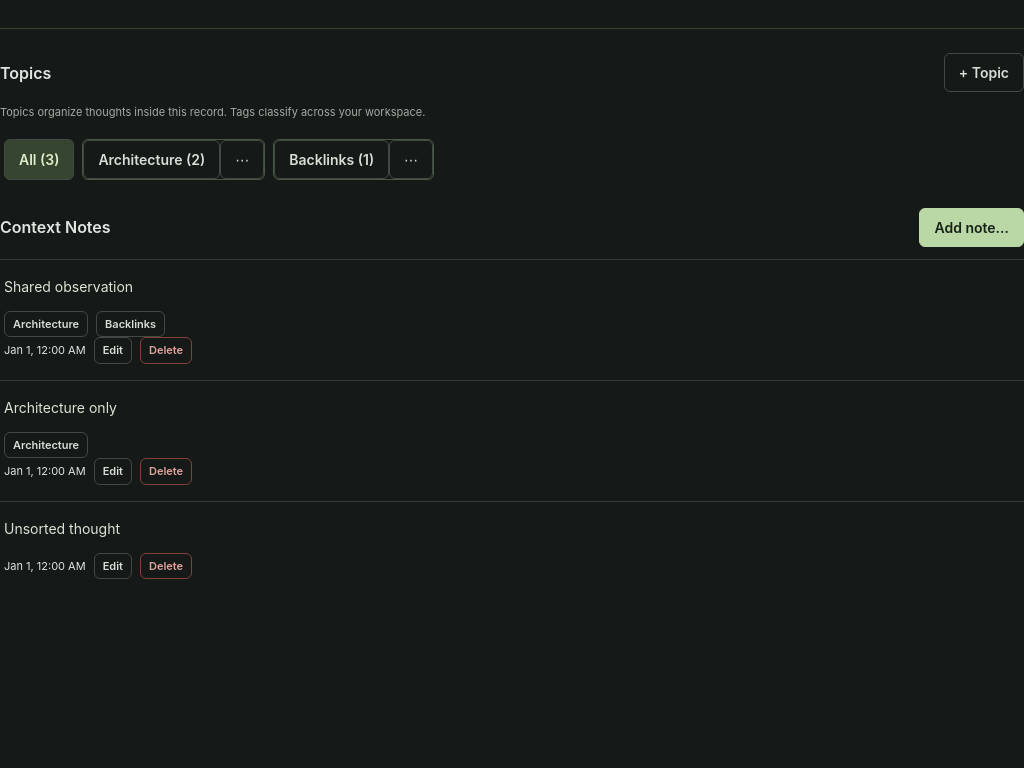
Test: editing changes body and memberships; confirmed deletion removes only the observation
Step 1. Click the button with aria-label "Edit observation Shared observation" → (113, 350), box [94,337,132,364]
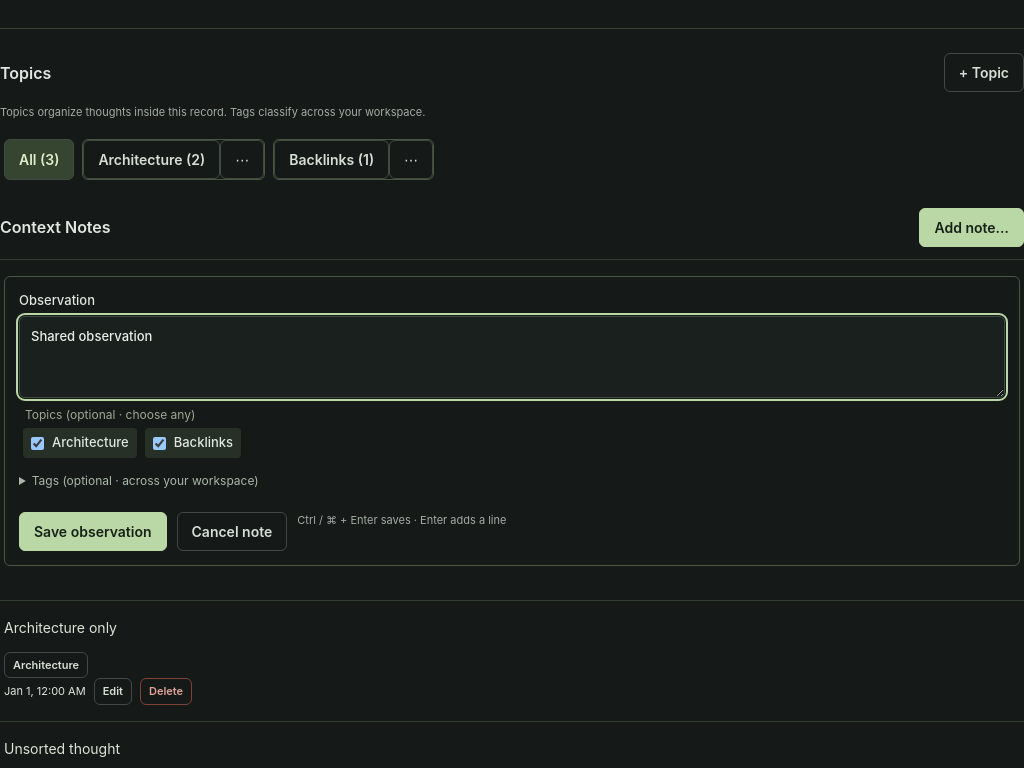
Step 2. Replace the text in the text box labelled "Observation" with "Revised thought" → (512, 357), box [19,316,1005,398]
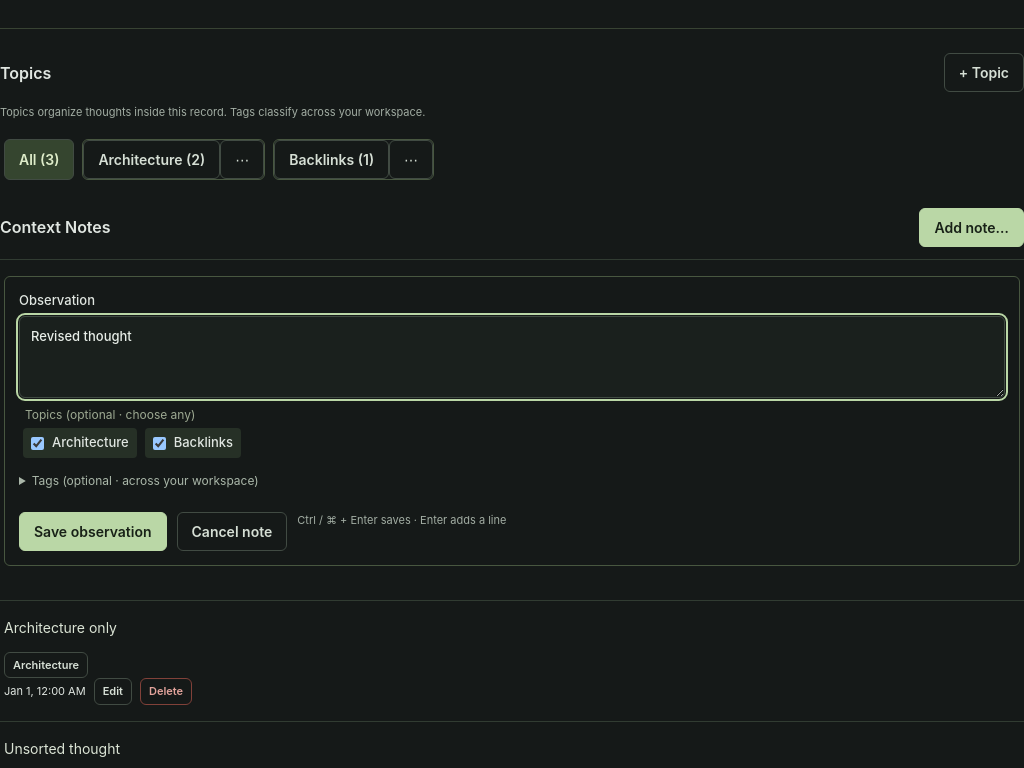
Step 3. Click the checkbox labelled "Architecture" → (38, 443), box [31,437,44,450]
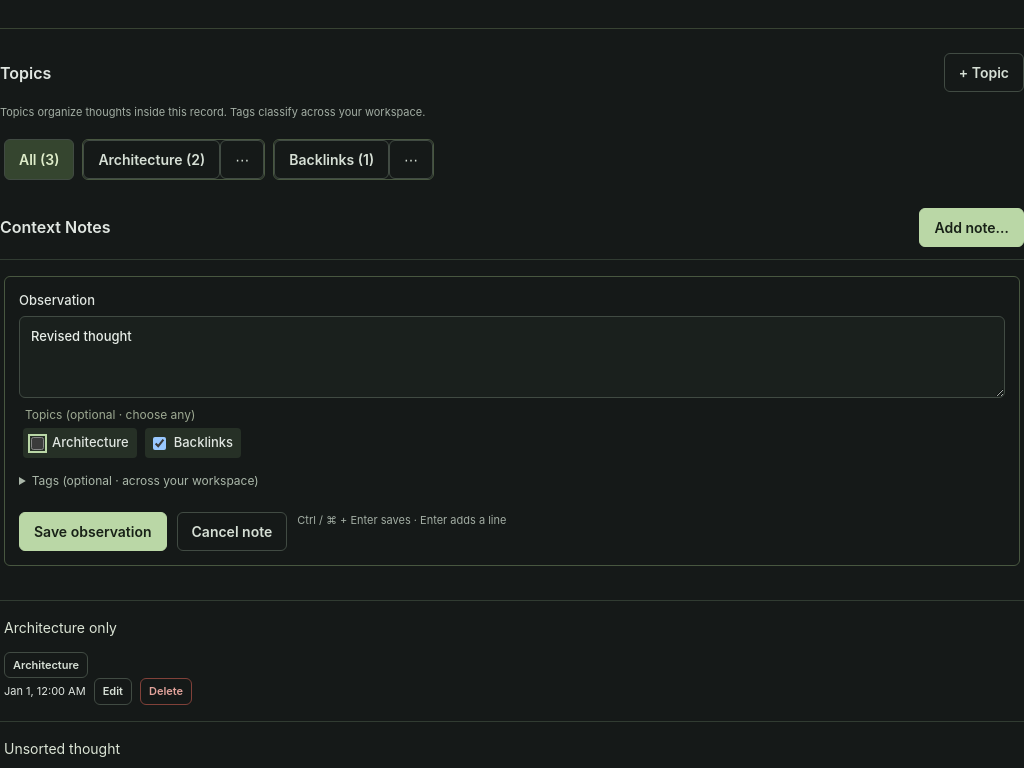
Step 4. Click the button "Save observation" → (93, 531), box [19,512,166,551]
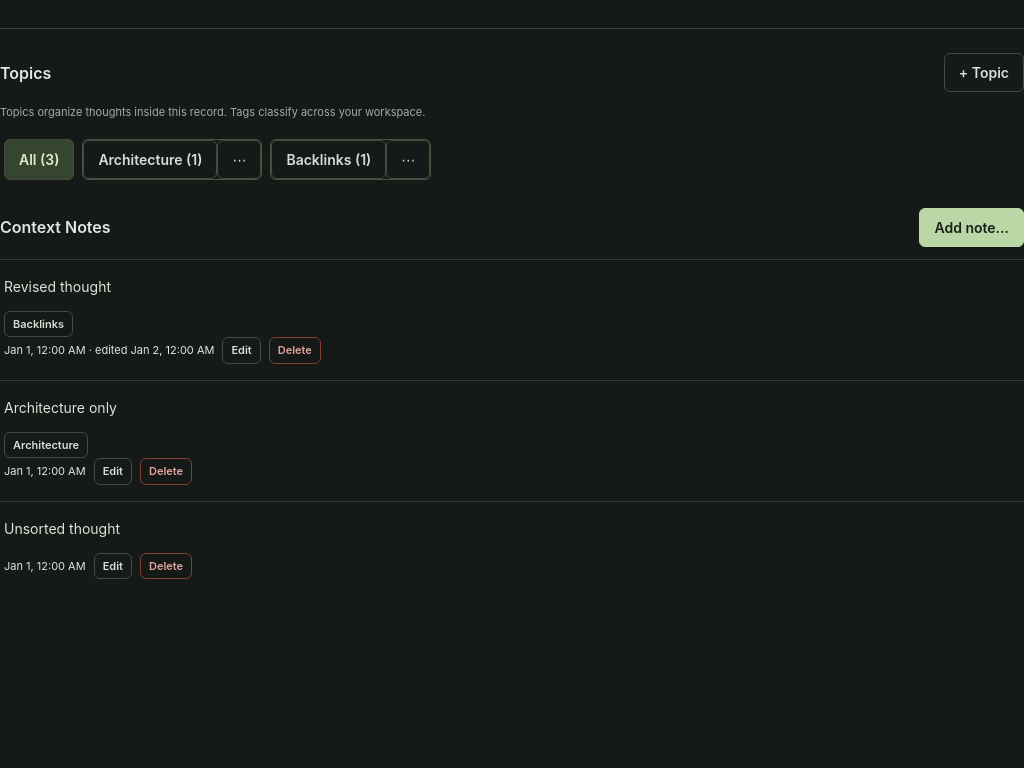
Step 5. Click the button with aria-label "Delete observation Revised thought" → (295, 350), box [269,337,321,364]
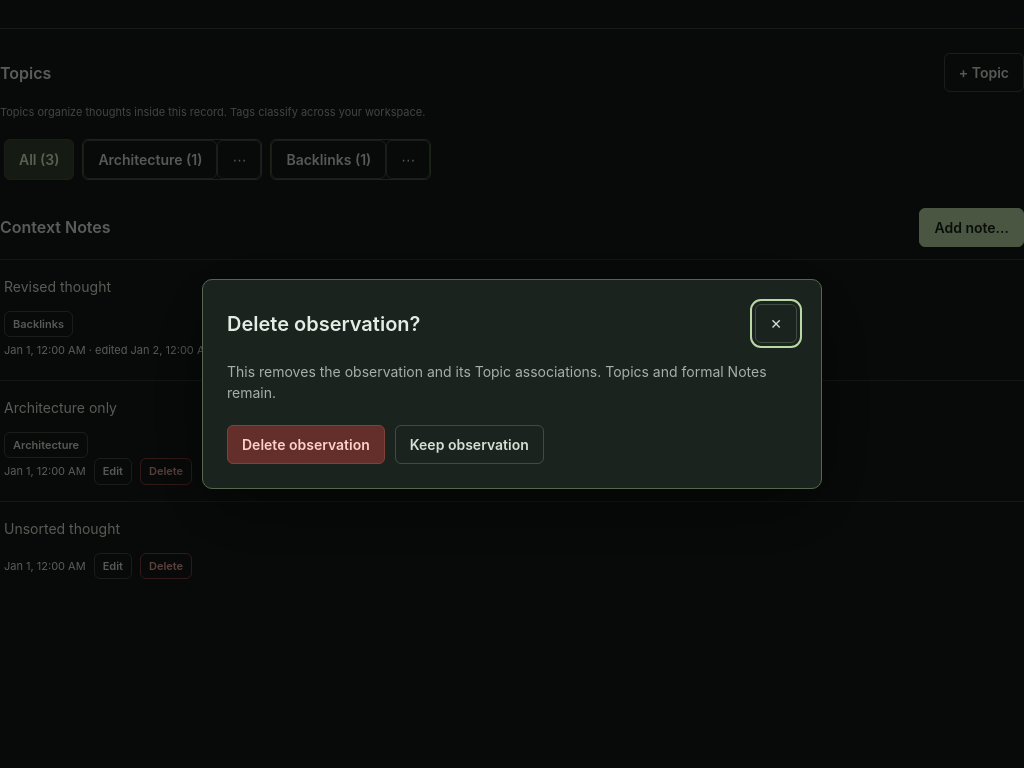
Step 6. Click the button "Delete observation" → (306, 444), box [227,425,385,464]
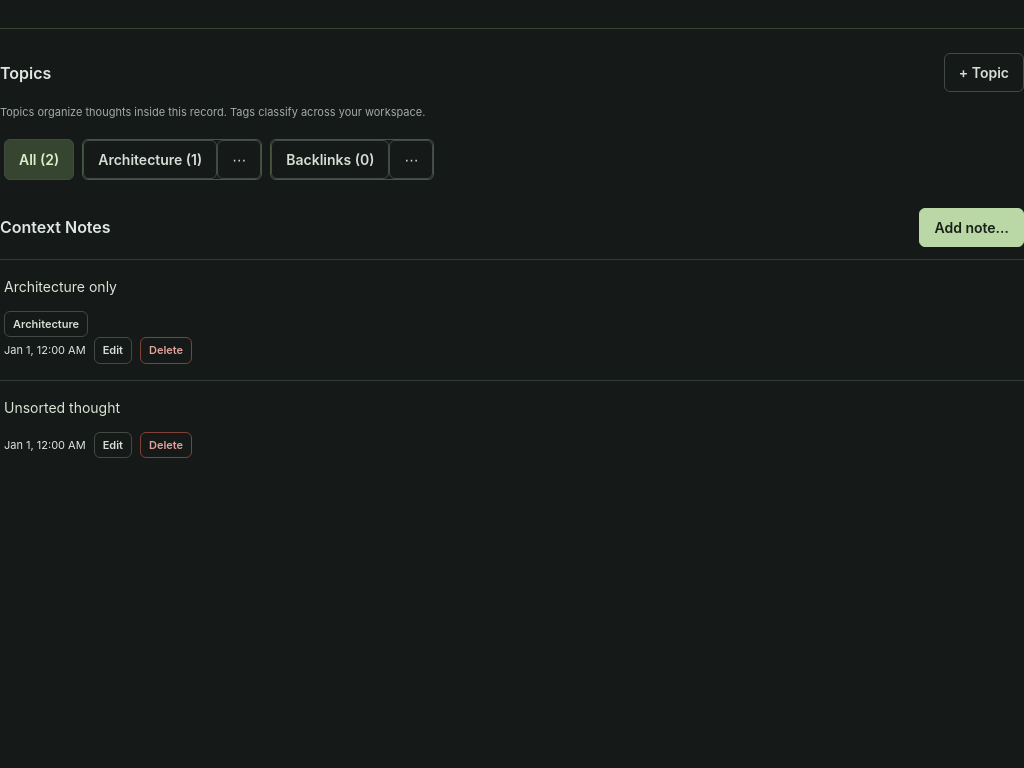
Now the text "Revised thought" is gone
Now the button "Backlinks (0)" is shown, box [271,140,390,178]
